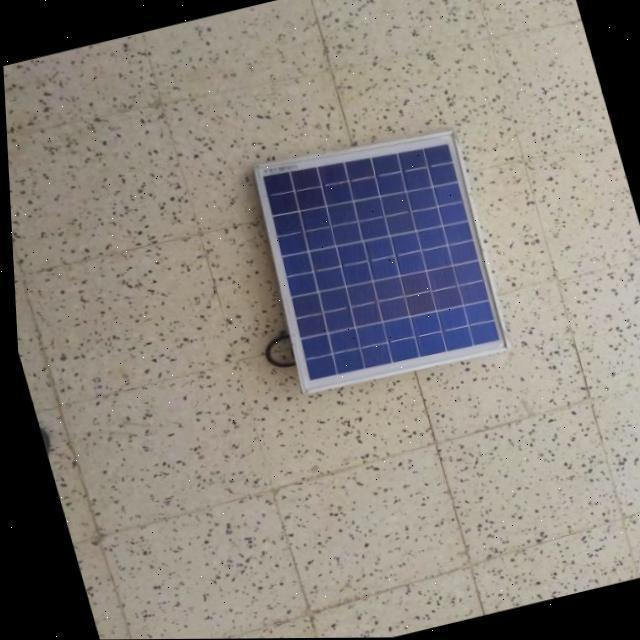Normal Solar Panel: (235, 118, 514, 400)
